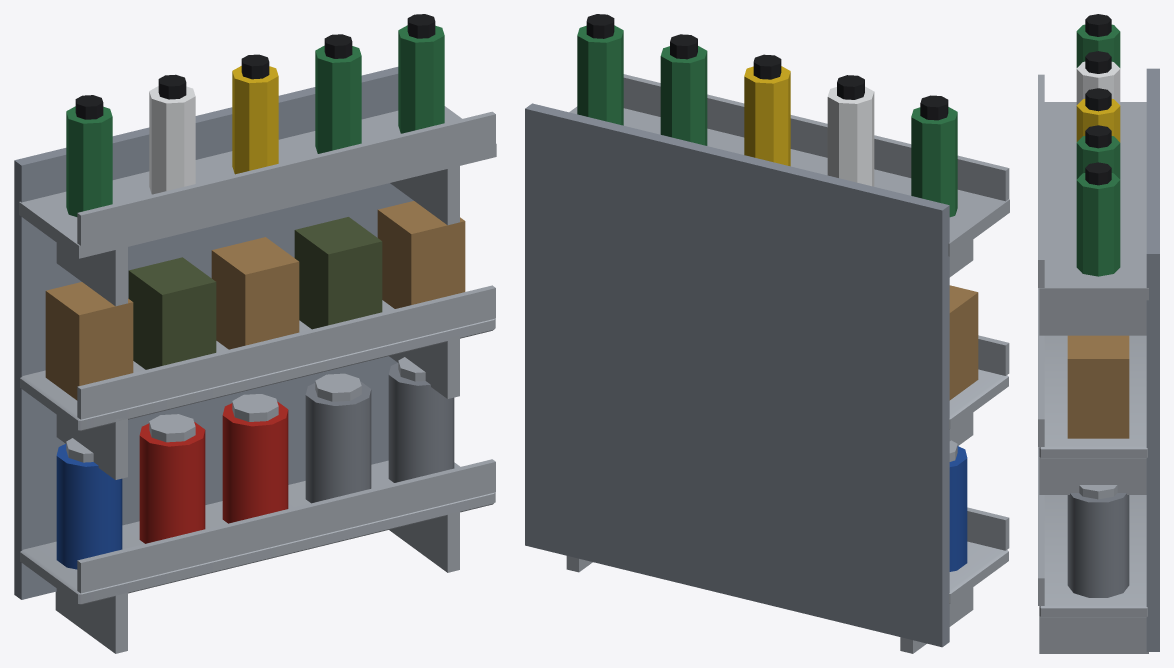
The model's file is shelving_wall_shelf_cans.glb.
3 views of the same model, side by side, from view 1: azimuth 30°, elevation 25°; view 2: azimuth 150°, elevation 25°; view 3: azimuth 270°, elevation 25° (orthographic). The views are drawn at different scales.
Parts seen in each view (by area): view 1: shelving_wall_shelf_cans; view 2: shelving_wall_shelf_cans; view 3: shelving_wall_shelf_cans.
Boxes of the visible parts, x1,y1,x2,y2 form: shelving_wall_shelf_cans: (14,14,496,653); shelving_wall_shelf_cans: (525,14,1009,653); shelving_wall_shelf_cans: (1038,14,1159,653).
Bounding box in the file's own units: 1.01 × 1.22 × 0.2775.
